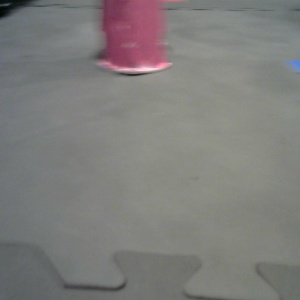Right: (224, 1, 300, 93)
